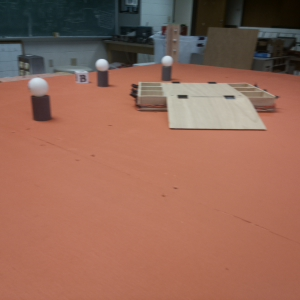obstacle: (26, 77, 53, 120), (95, 58, 109, 87), (160, 55, 174, 80)
side: (128, 81, 166, 112), (229, 79, 267, 93)
slope: (166, 94, 258, 131)
